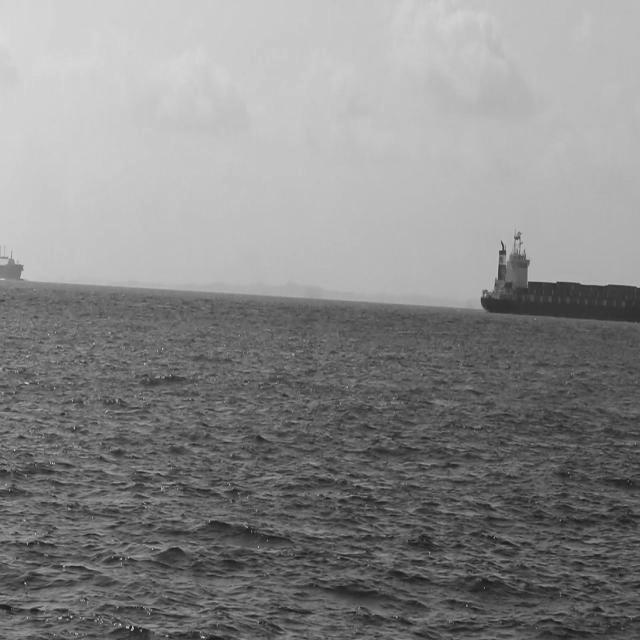ship: (477, 230, 639, 319), (2, 243, 26, 280)
